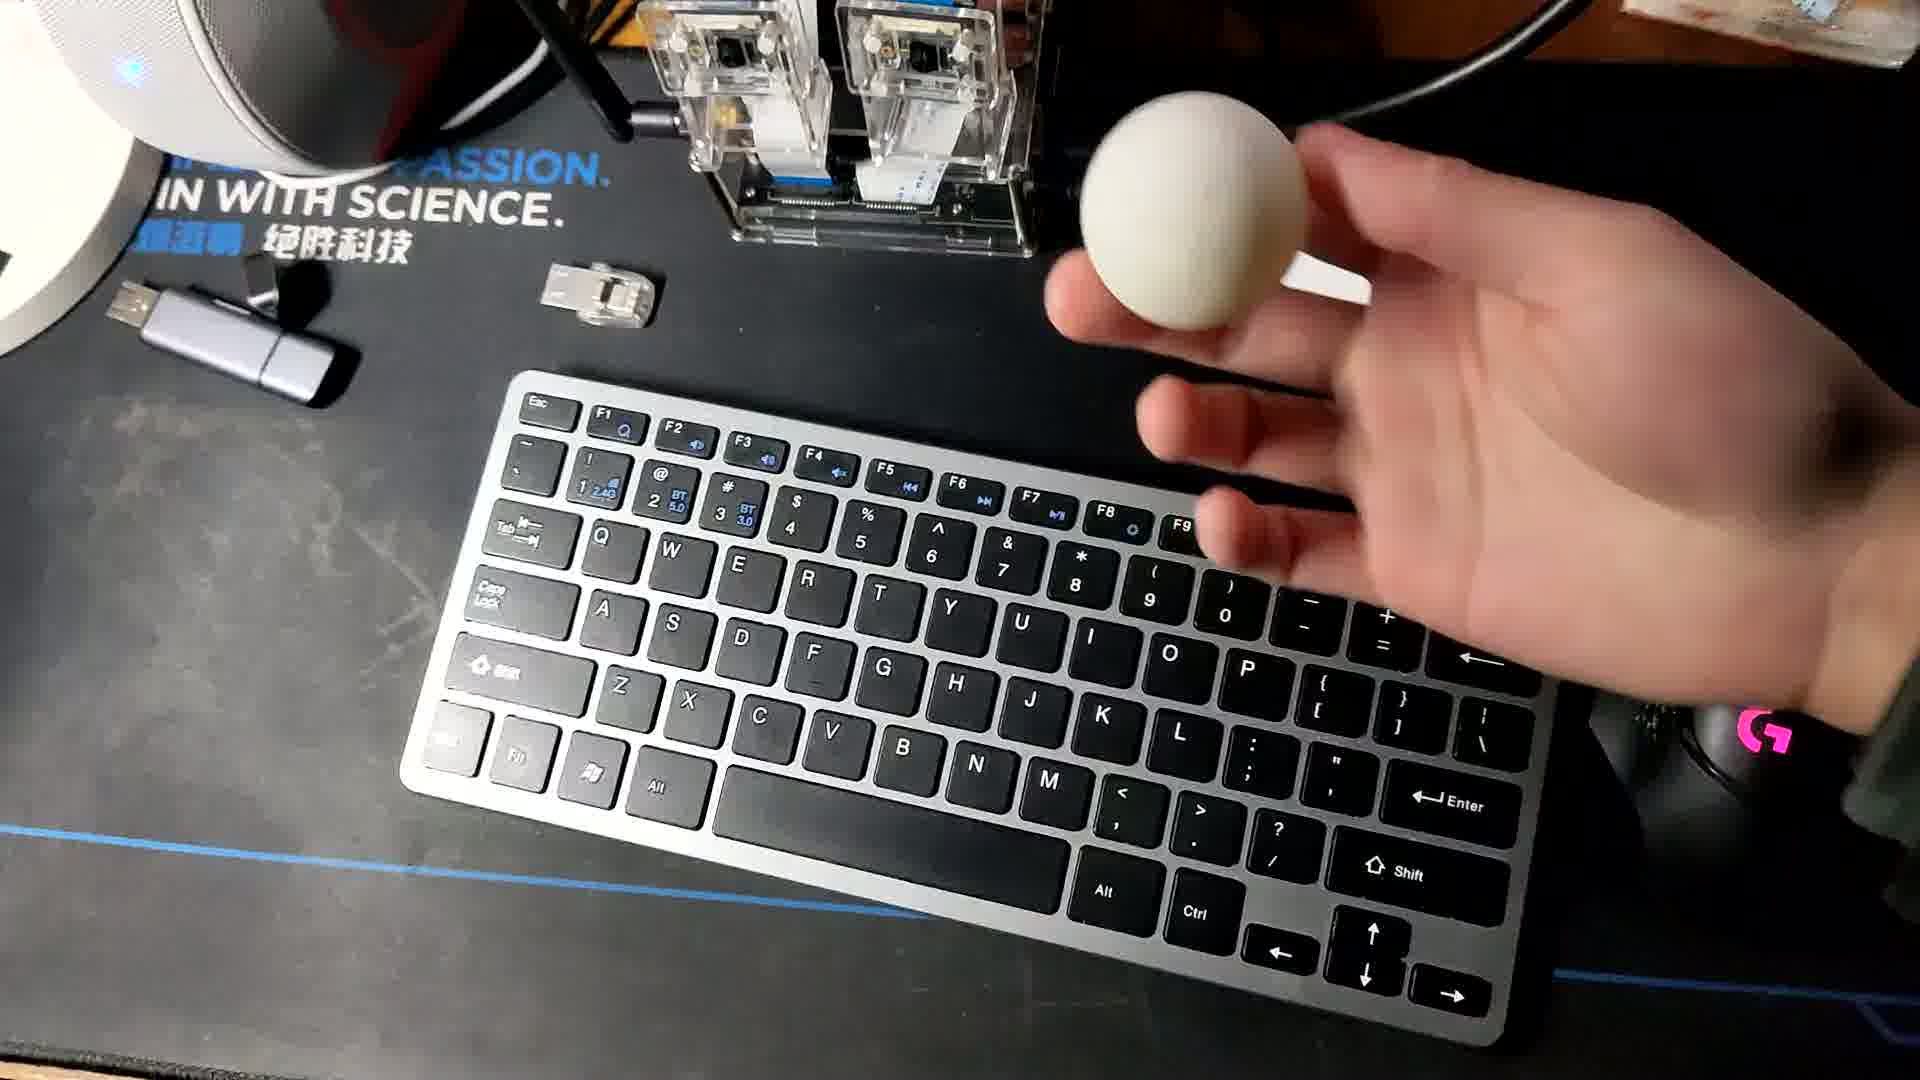Ball: (1083, 94, 1317, 335)
